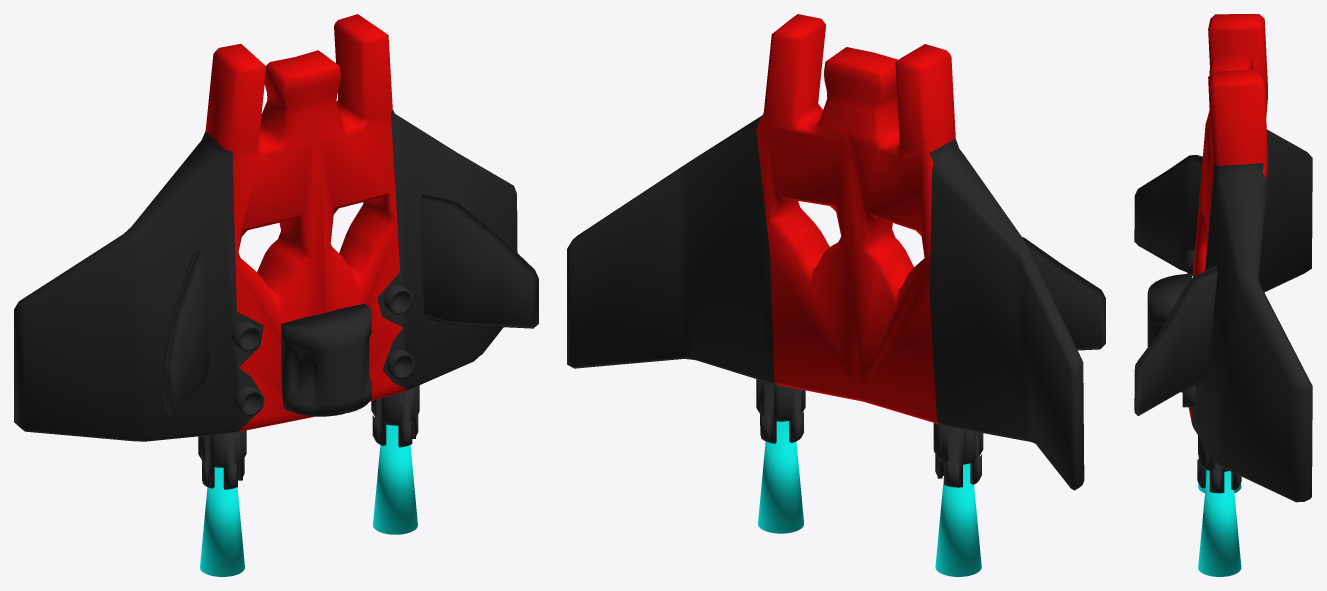
Rendered from ship.fbx.
3 views of the same model, side by side, from view 1: azimuth 30°, elevation 25°; view 2: azimuth 150°, elevation 25°; view 3: azimuth 270°, elevation 25° (orthographic). The views are drawn at different scales.
Parts seen in each view (by area): view 1: Cube; view 2: Cube; view 3: Cube.
Boxes of the visible parts, bbox=[...] form: Cube: bbox=[14, 14, 538, 576]; Cube: bbox=[567, 14, 1105, 576]; Cube: bbox=[1134, 14, 1312, 576].
Size of the model in its own units: 848 by 814 by 274.
